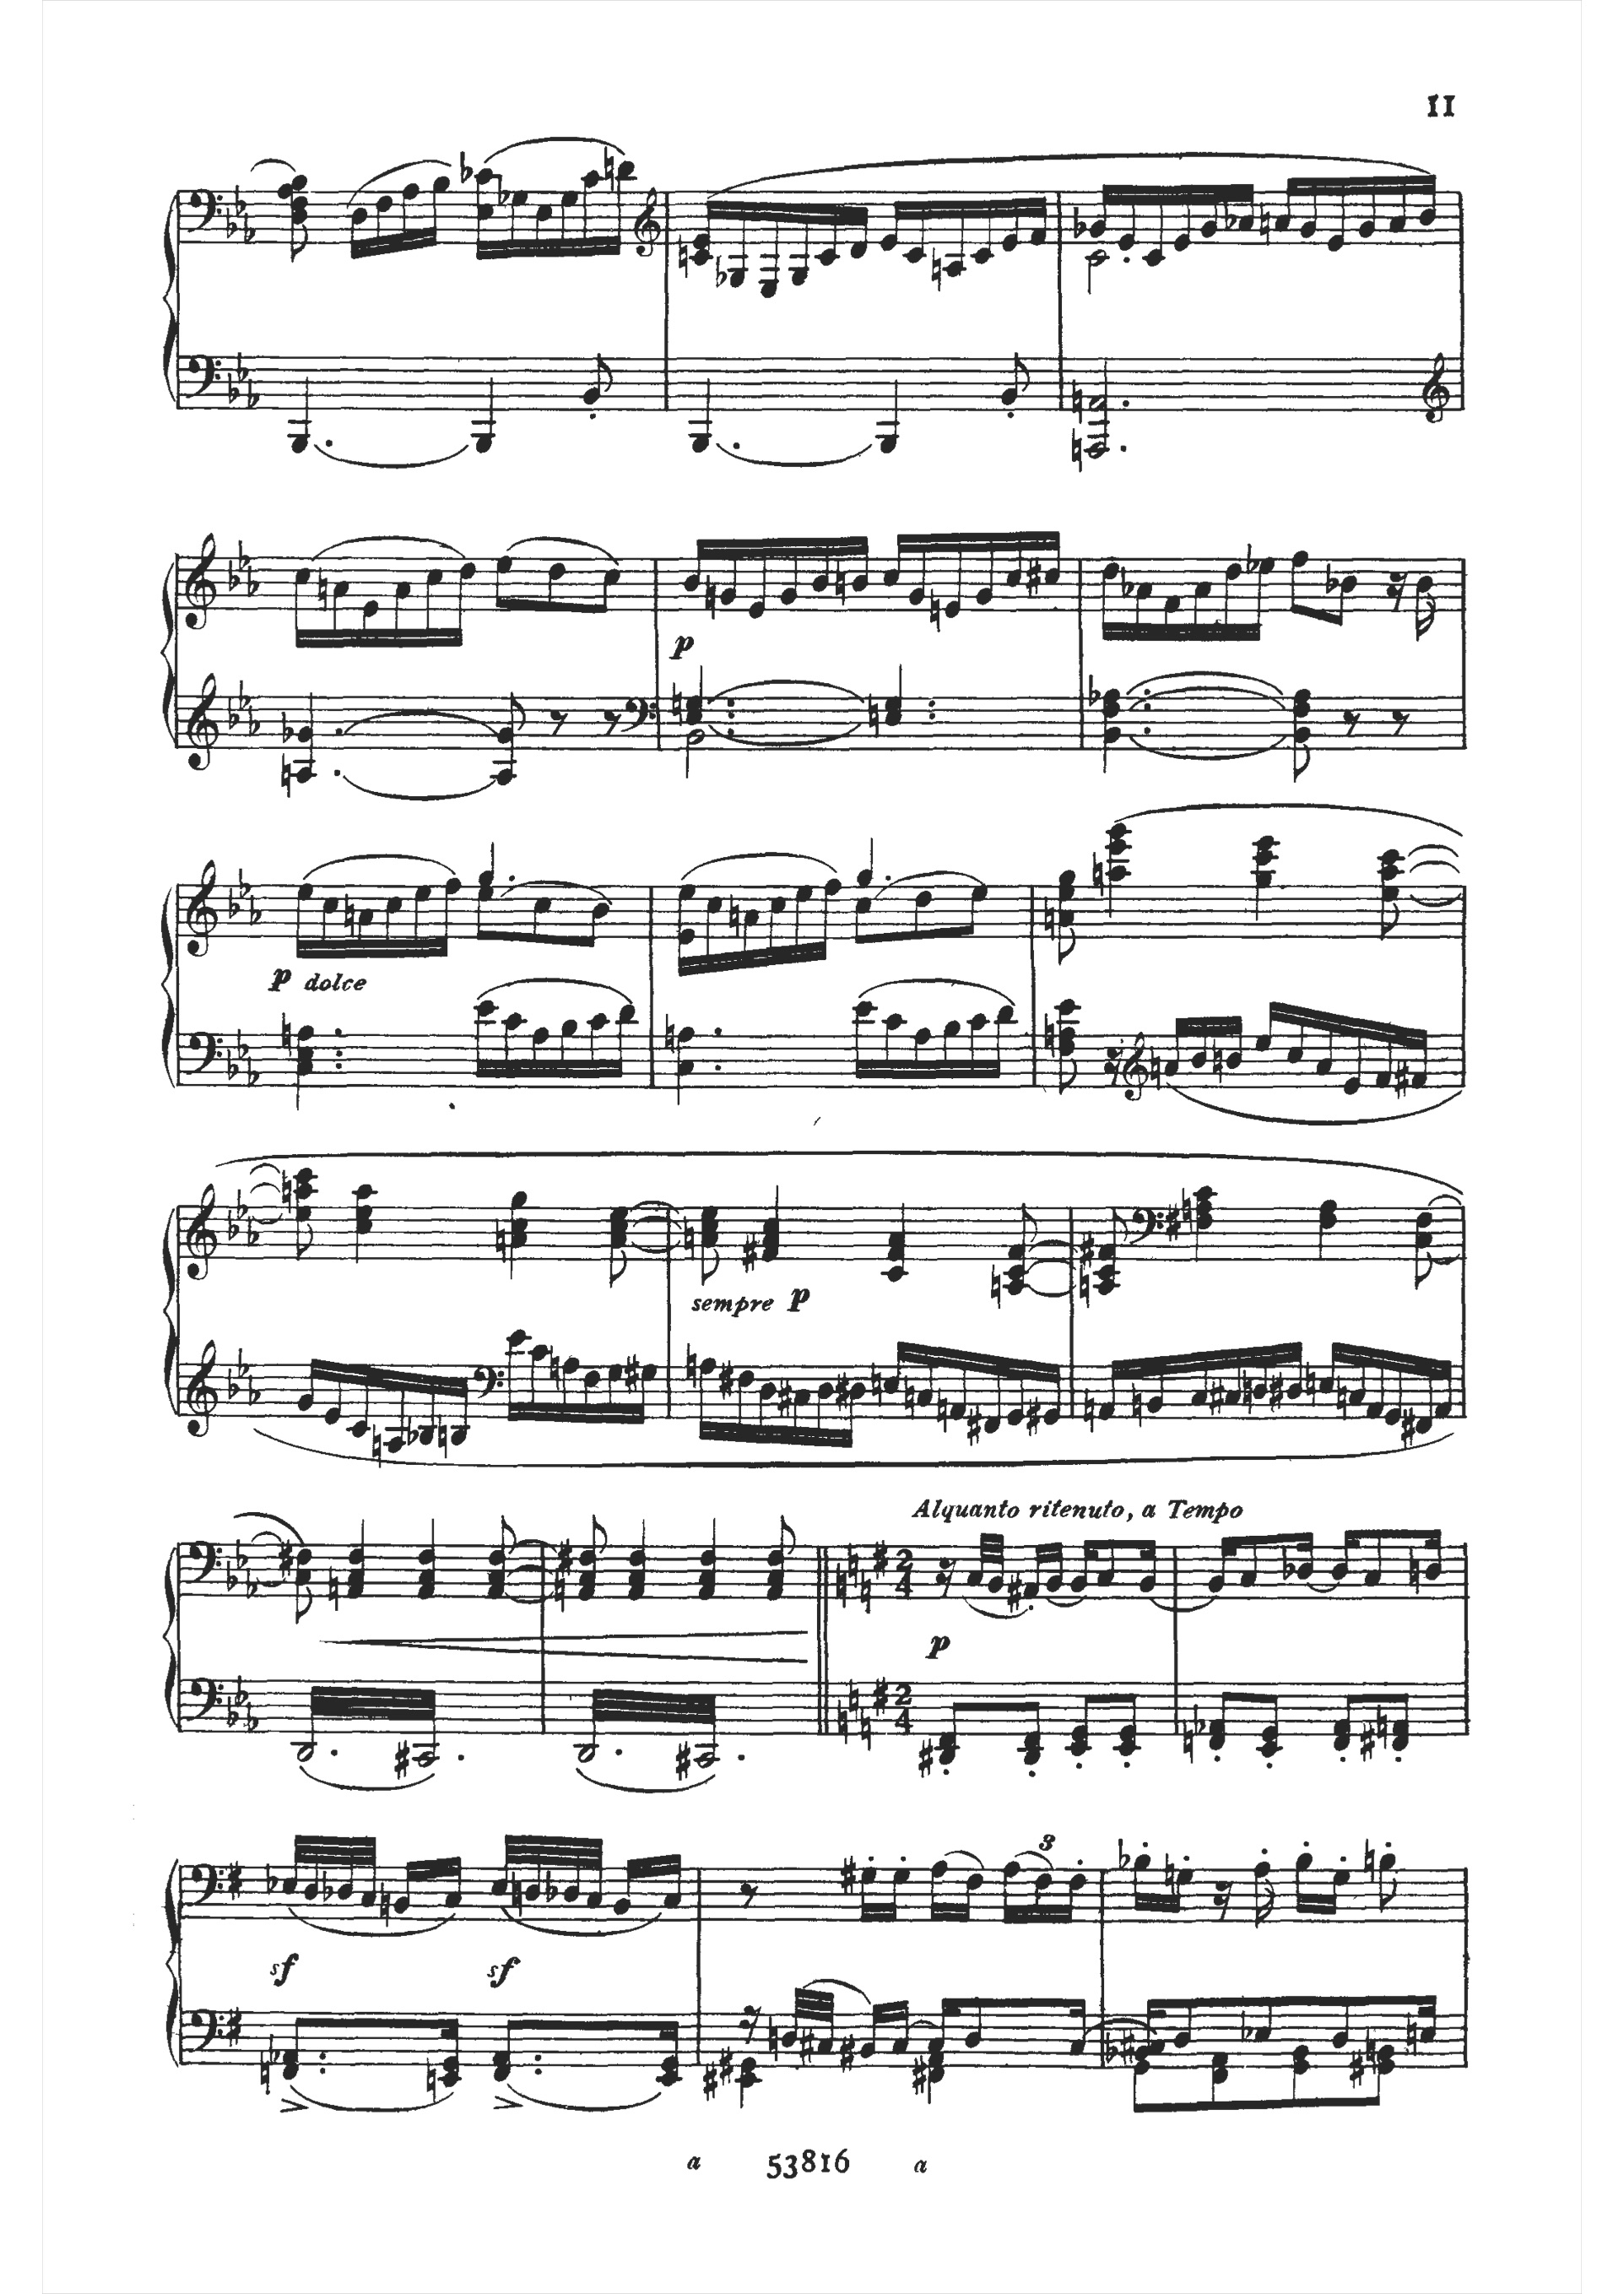bass_clef: (176, 1023, 225, 1088), (183, 2004, 227, 2064), (183, 346, 225, 404), (186, 181, 227, 241), (186, 1672, 227, 1730), (185, 1535, 223, 1593), (188, 1860, 227, 1916)
flat: (239, 1702, 265, 1737), (230, 181, 251, 223), (223, 881, 243, 925), (243, 703, 265, 740), (232, 352, 255, 387), (243, 378, 265, 413), (244, 1375, 267, 1410), (234, 1183, 253, 1223), (220, 204, 241, 241), (236, 1347, 257, 1383), (237, 675, 257, 714), (221, 1364, 241, 1403), (234, 536, 253, 573), (220, 1561, 239, 1598), (243, 564, 262, 599), (221, 696, 241, 731), (244, 1568, 262, 1607), (220, 1049, 241, 1081), (234, 1028, 255, 1060), (236, 863, 253, 900), (248, 891, 265, 928), (223, 1208, 241, 1245), (223, 561, 243, 594), (246, 1215, 264, 1250), (223, 1693, 239, 1731), (230, 1536, 248, 1570), (225, 373, 241, 410), (241, 211, 257, 246), (236, 1675, 253, 1705)
sharp: (223, 1858, 246, 1902), (223, 2004, 243, 2051)
treble_clef: (179, 664, 225, 772), (178, 856, 223, 963), (178, 1336, 221, 1447), (183, 1181, 221, 1285), (181, 524, 218, 631)
